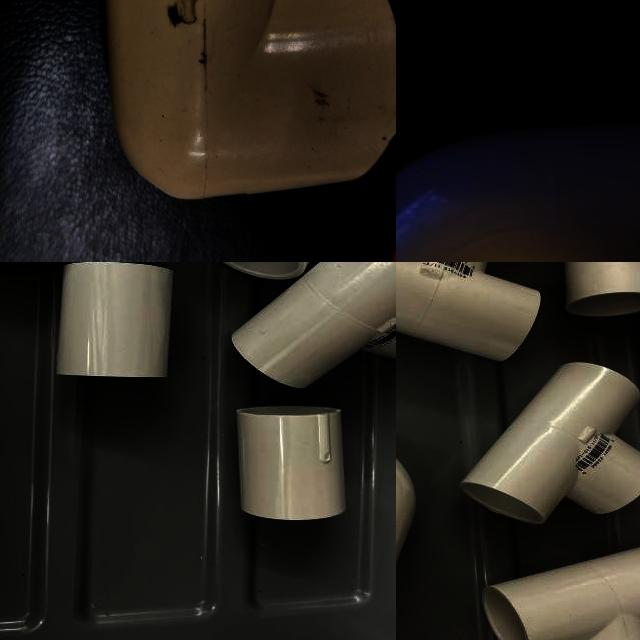Defective: (0, 116, 114, 173)
L Joint: (0, 0, 247, 262), (396, 121, 640, 262)
T Joint: (459, 362, 640, 525), (232, 262, 396, 392), (396, 262, 543, 365), (482, 547, 640, 640)
